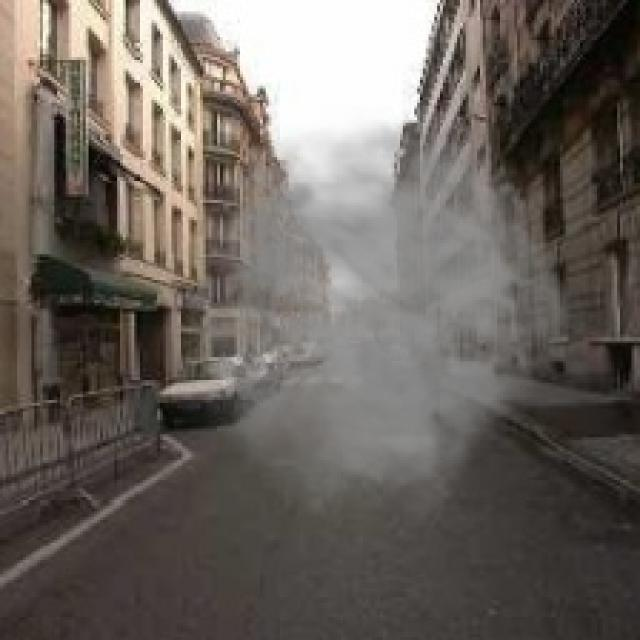Smoke: (148, 106, 574, 526)
